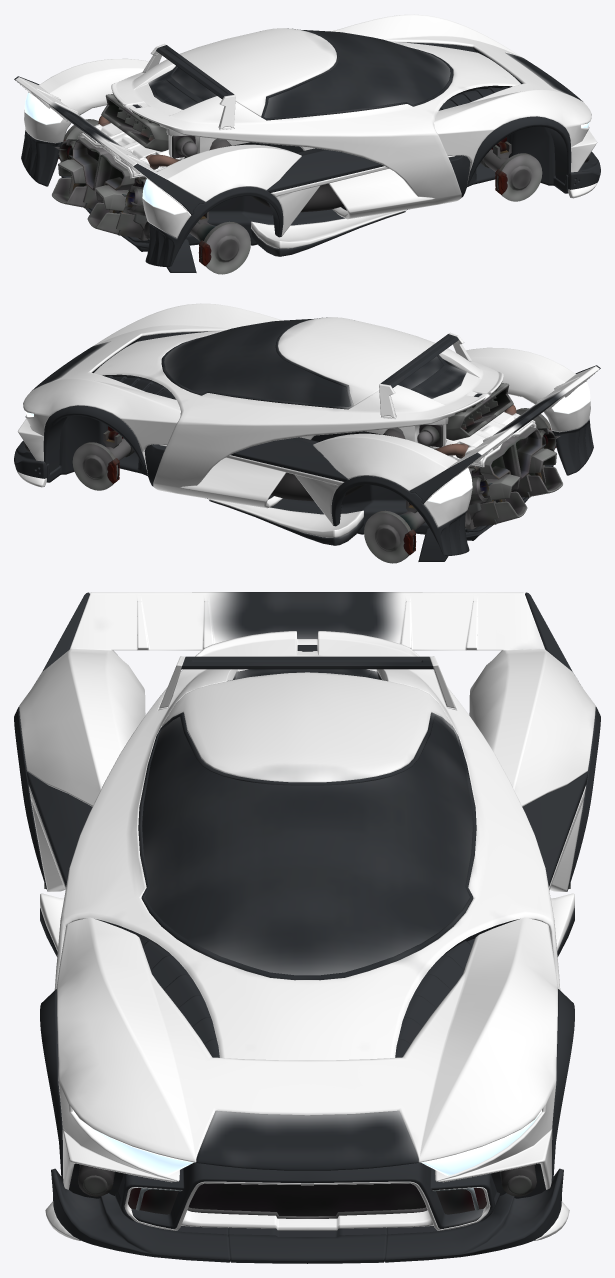
Rendered from peach_paintable.glb.
3 renders of one model, top to bottom at view 1: azimuth 30°, elevation 25°; view 2: azimuth 150°, elevation 25°; view 3: azimuth 270°, elevation 25°, orthographic. The views are drawn at different scales.
Visible parts, largest first — view 1: body-shell, lower-detail, lamps; view 2: body-shell, lower-detail, lamps; view 3: body-shell, lower-detail, lamps.
Boxes of the visible parts, x1,y1,x2,y2 form: body-shell: (14,14,600,272); lower-detail: (52,92,590,274); lamps: (24,92,589,214); body-shell: (14,303,600,561); lower-detail: (24,381,562,563); lamps: (25,381,590,503); body-shell: (14,592,600,1263); lower-detail: (44,883,570,1218); lamps: (73,1110,541,1175).
Size of the model in its own units: 140 by 41.91 by 78.69.
3 materials, 2 textured.
